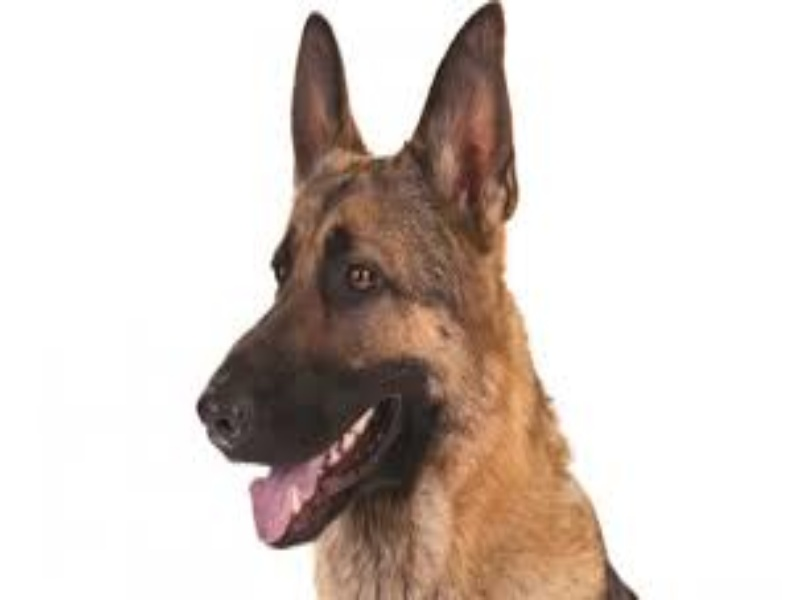dog: (143, 1, 688, 594)
